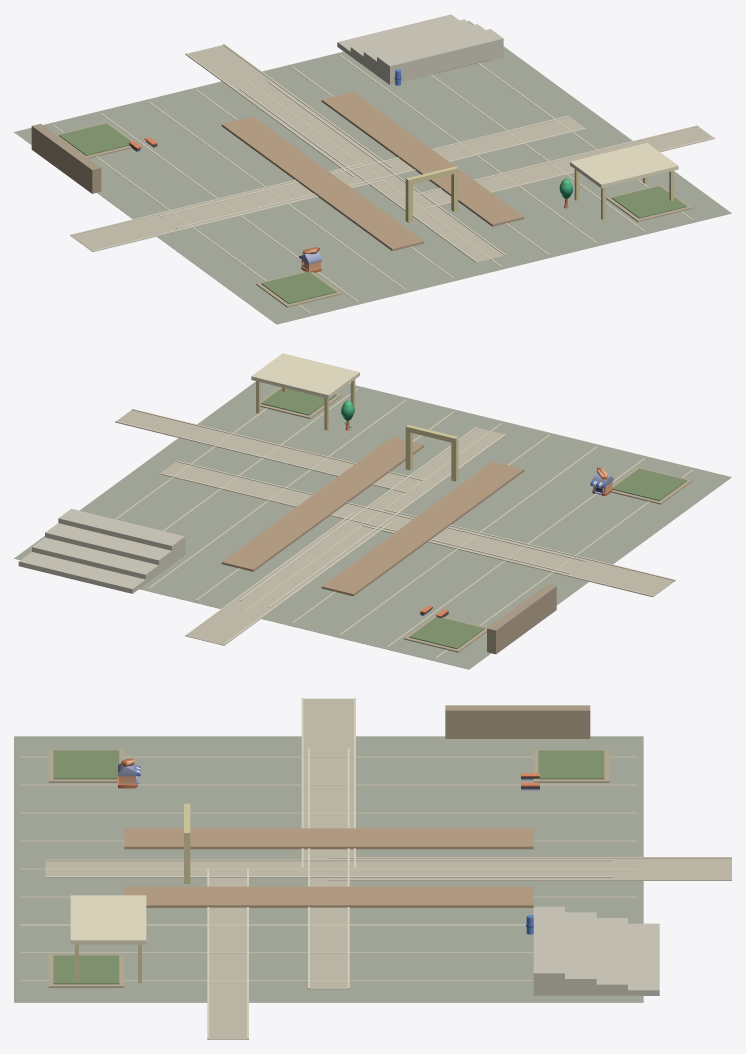
Rendered from gardens-6-2.glb.
The picture shows the model from 3 angles, top to bottom: view 1: azimuth 30°, elevation 25°; view 2: azimuth 150°, elevation 25°; view 3: azimuth 270°, elevation 25°; orthographic projection. The views are drawn at different scales.
Parts seen in each view (by area): view 1: gardens-6-2; view 2: gardens-6-2; view 3: gardens-6-2.
Boxes of the visible parts, x1=… form: gardens-6-2: x1=14, y1=14, x2=731, y2=324; gardens-6-2: x1=14, y1=353, x2=731, y2=669; gardens-6-2: x1=14, y1=698, x2=731, y2=1039.
Size of the model in its own units: 256 by 18 by 228.
Materials: 15 (4 with a texture image).
